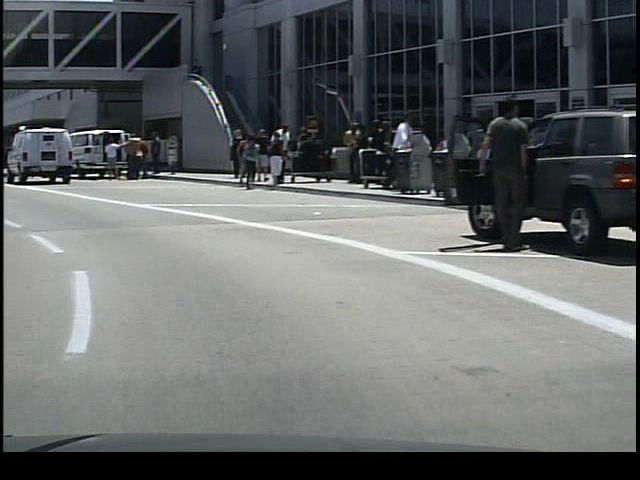person: (462, 81, 535, 258), (378, 108, 414, 200), (265, 123, 290, 185), (261, 135, 284, 186), (120, 132, 141, 184), (146, 130, 167, 178), (101, 137, 119, 185), (232, 126, 238, 181)
